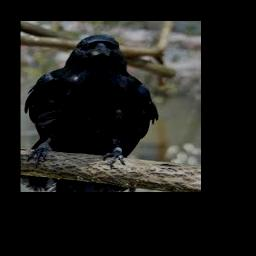Crow: (25, 34, 159, 168)
